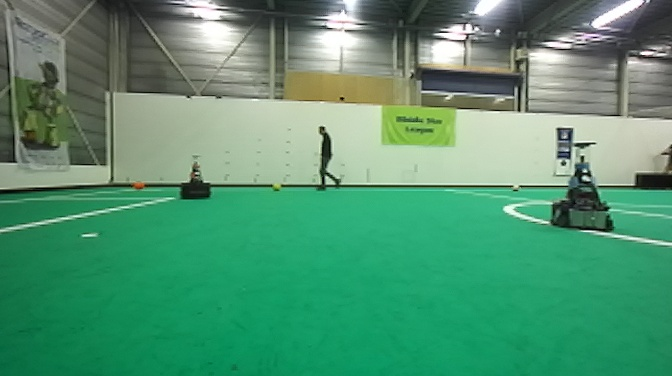ball: (128, 177, 145, 193), (270, 179, 284, 194), (510, 182, 522, 194)
human: (312, 124, 342, 191)
robot: (549, 139, 616, 232), (177, 153, 215, 201)
